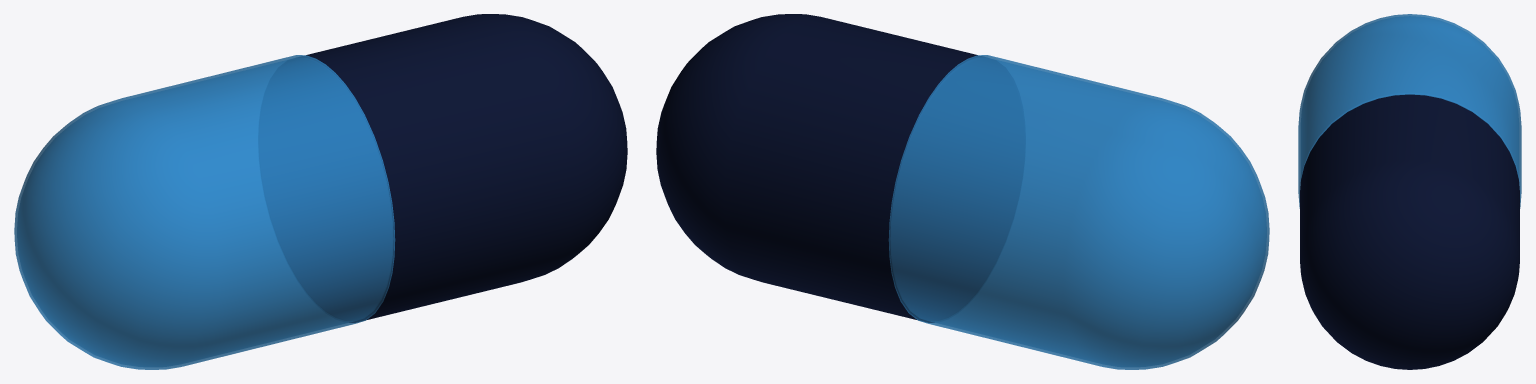
File: pill new colours .gltf
The picture shows the model from 3 angles, left to right: view 1: azimuth 30°, elevation 25°; view 2: azimuth 150°, elevation 25°; view 3: azimuth 270°, elevation 25°; orthographic projection. The views are drawn at different scales.
Visible parts, largest first — view 1: Roundcube.001, Roundcube; view 2: Roundcube.001, Roundcube; view 3: Roundcube, Roundcube.001.
Boxes of the visible parts, box(x1,y1,x2,y2) form: Roundcube.001: box(14, 55, 395, 369); Roundcube: box(306, 14, 627, 322); Roundcube.001: box(888, 55, 1269, 369); Roundcube: box(656, 14, 977, 322); Roundcube: box(1300, 94, 1519, 369); Roundcube.001: box(1298, 14, 1521, 208).
Bounding box in the file's own units: 5.14 × 2.13 × 2.13.
